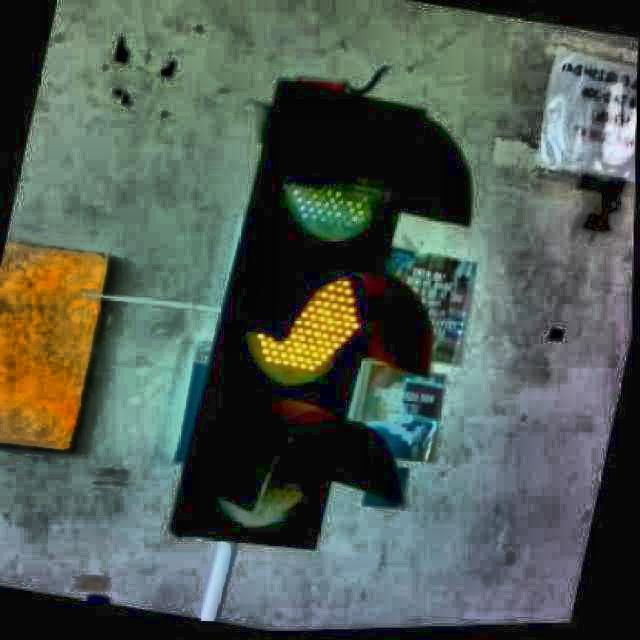yellow: (200, 80, 426, 538)
